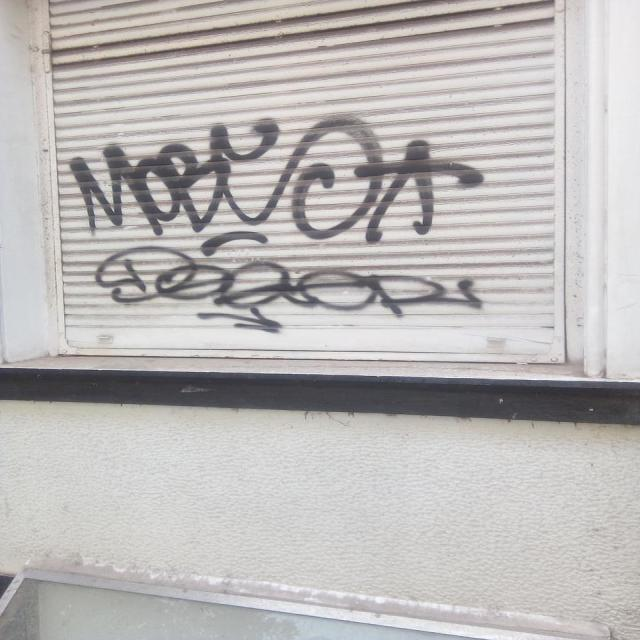nonspitting: (68, 115, 486, 334)
